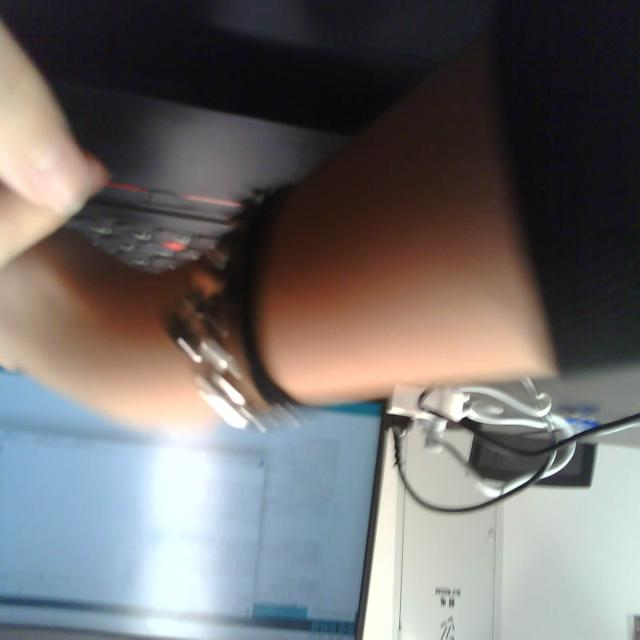keyboard-with-hands: (0, 55, 421, 358)
